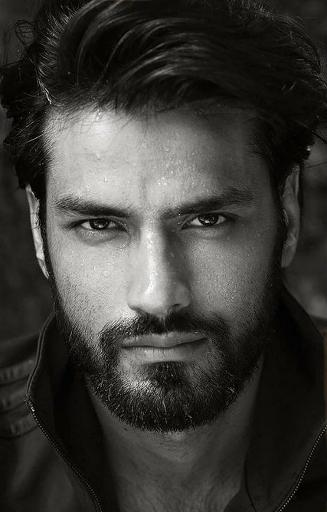left_eye: (180, 209, 244, 235)
left_lip_corner: (192, 324, 213, 360)
right_eye: (67, 214, 132, 237)
right_lip_corner: (115, 332, 136, 362)
